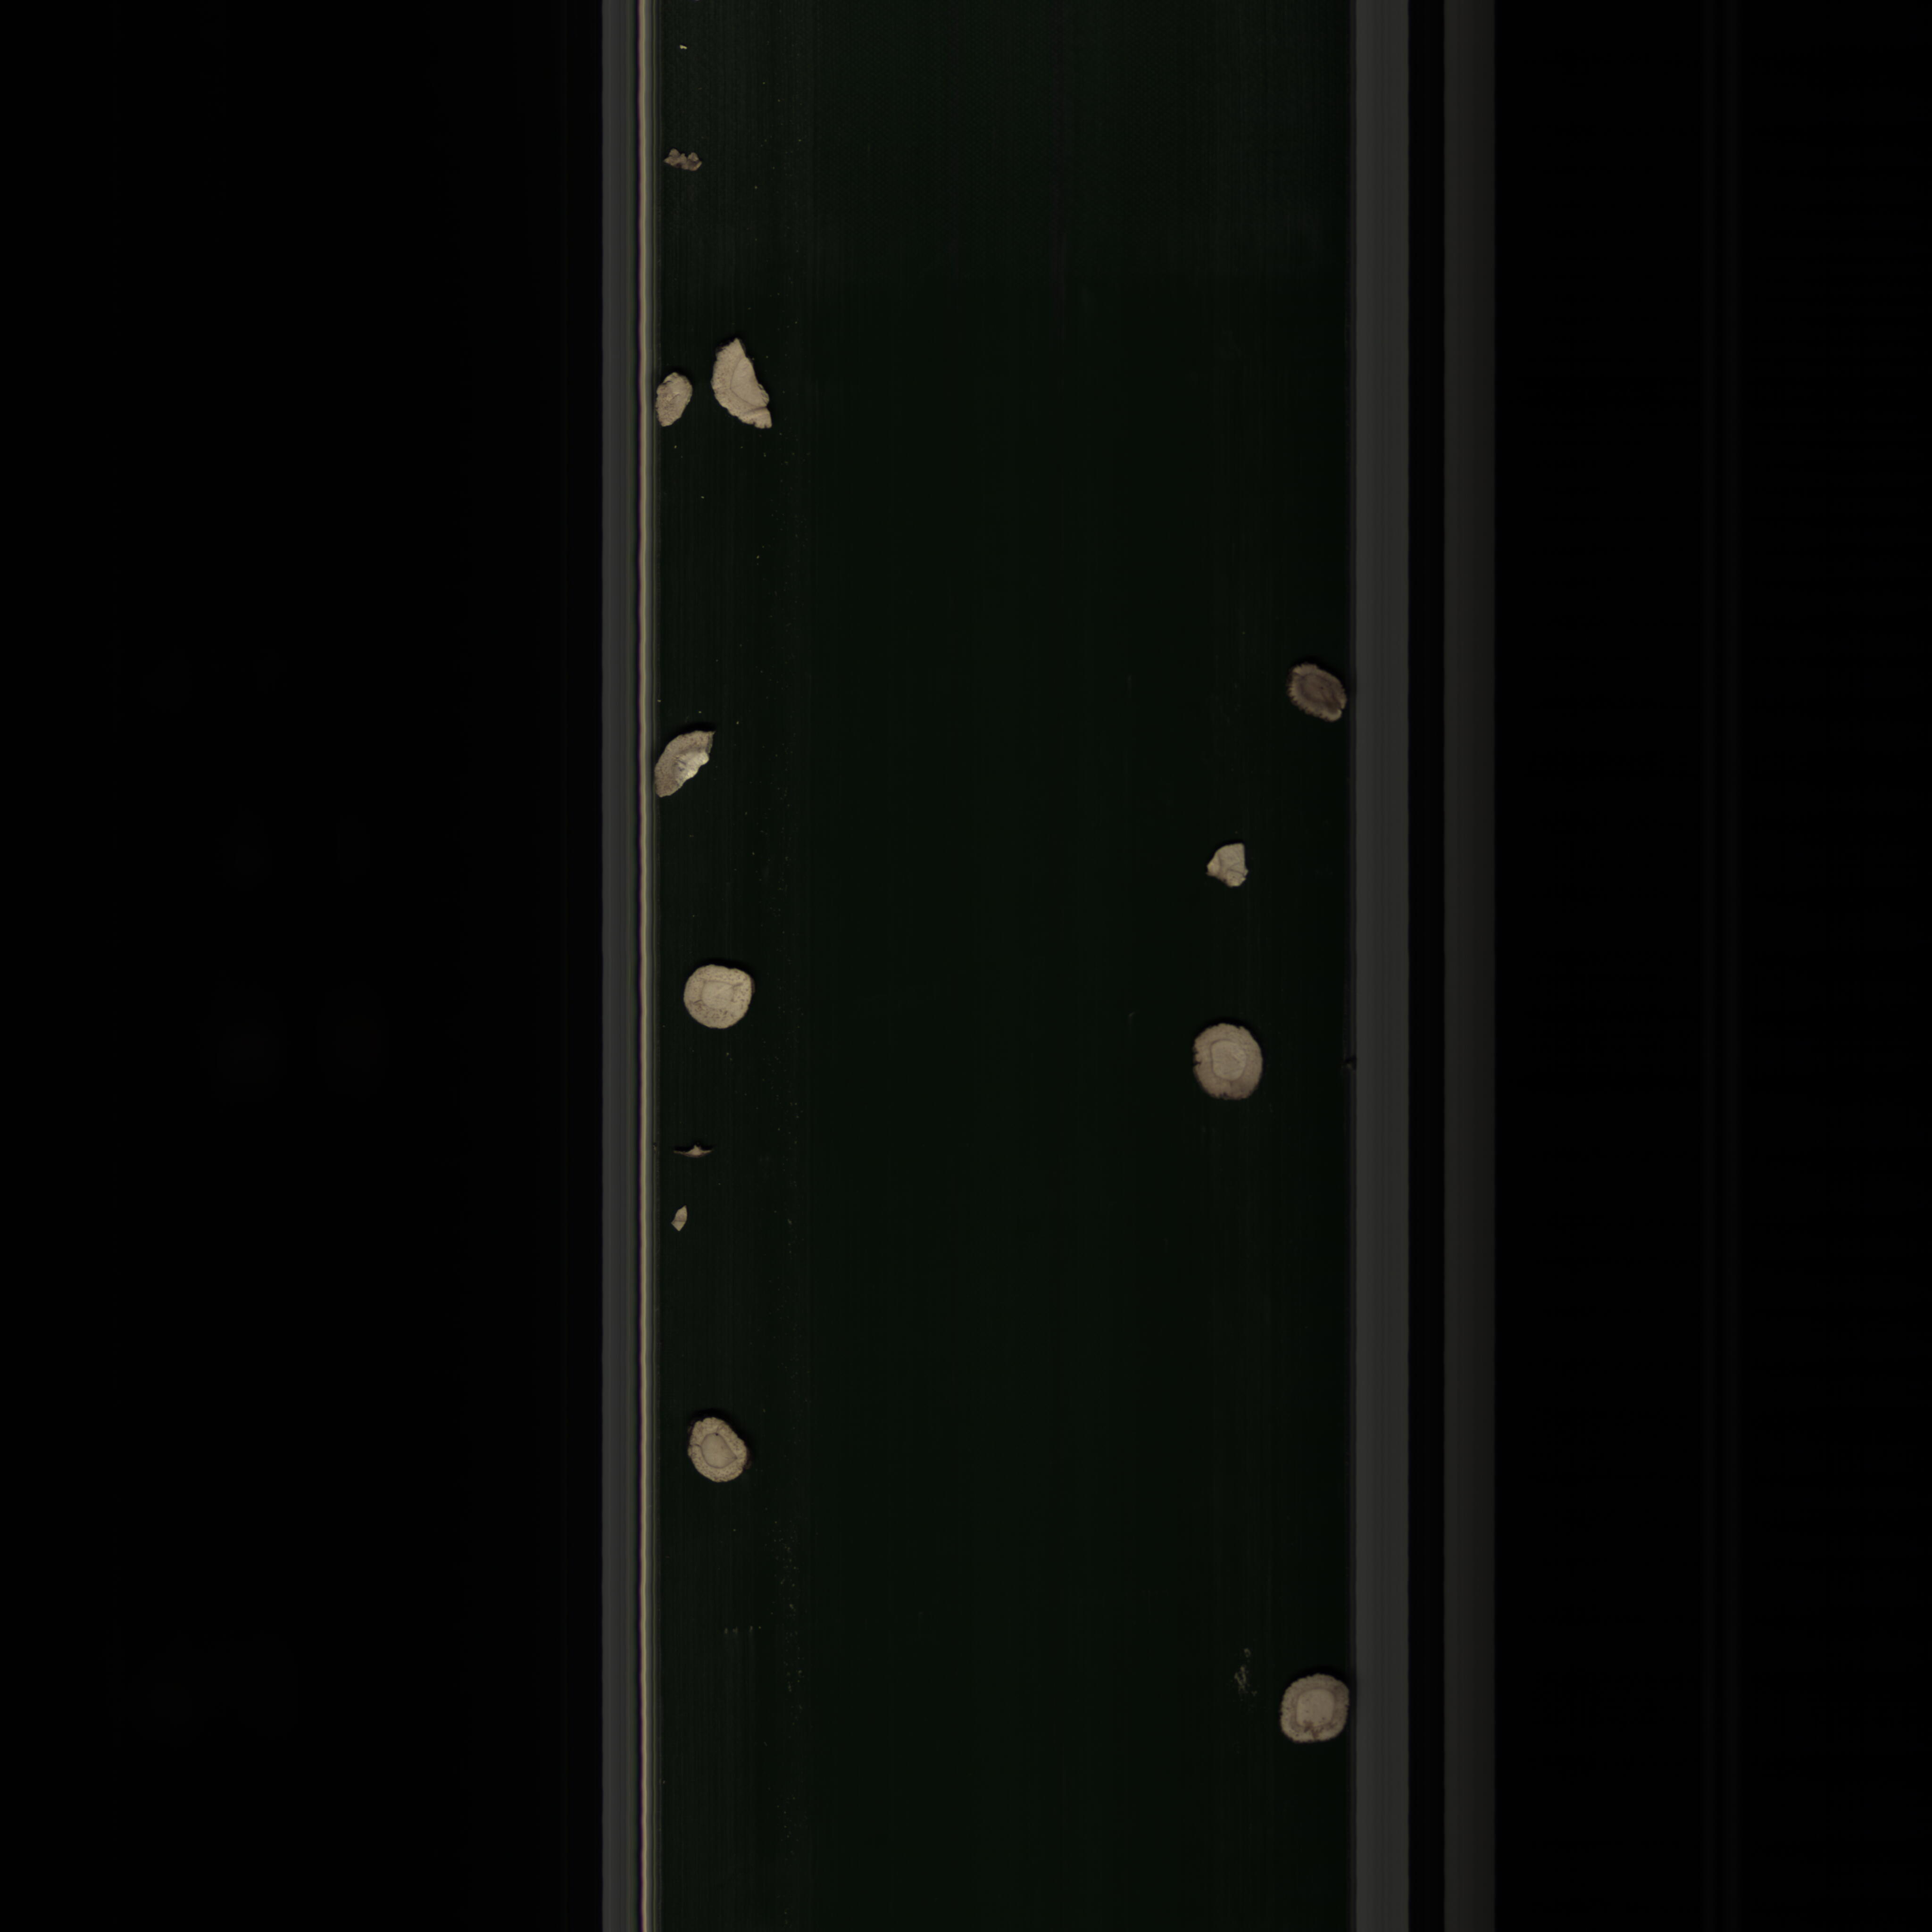debris: (708, 336, 780, 435), (653, 725, 722, 801), (1194, 837, 1256, 892), (655, 366, 694, 432), (665, 1203, 695, 1235)
moldy: (1279, 658, 1352, 729)
